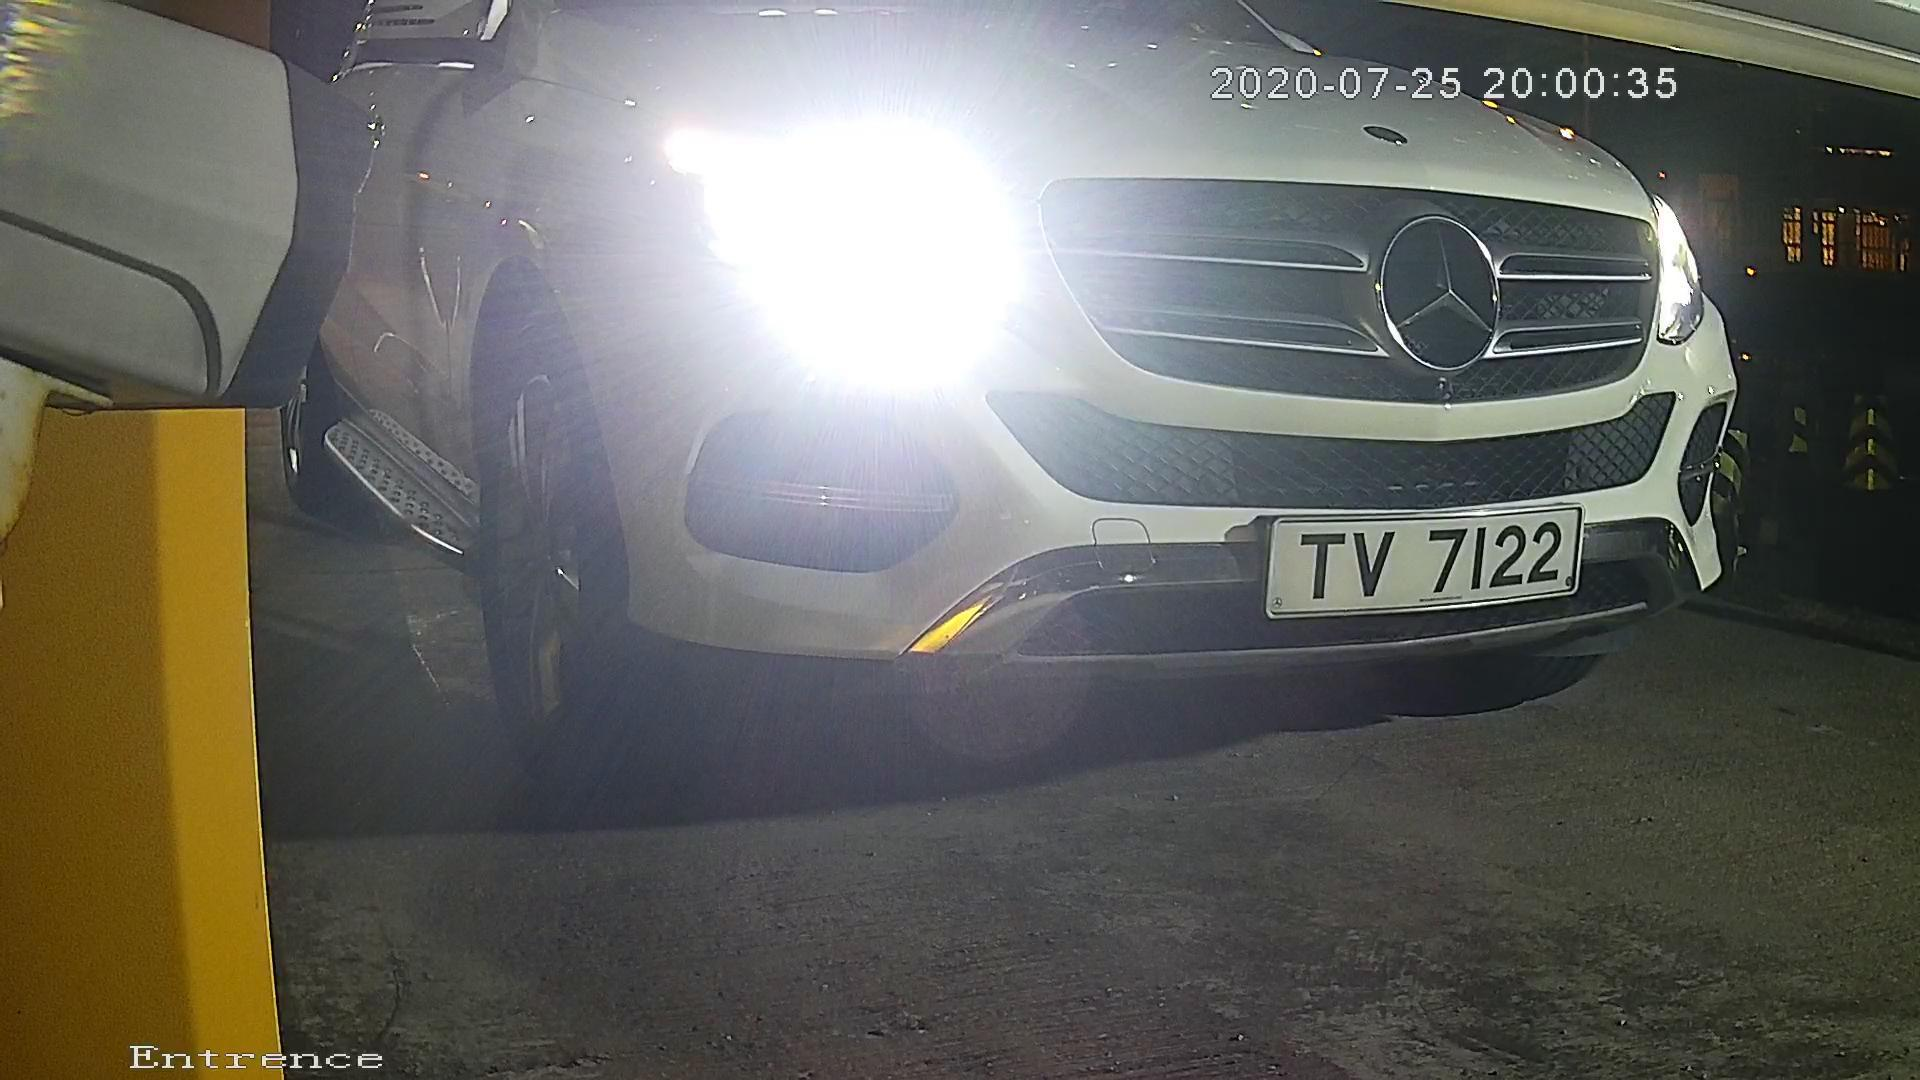privatecar: (291, 3, 1775, 733)
